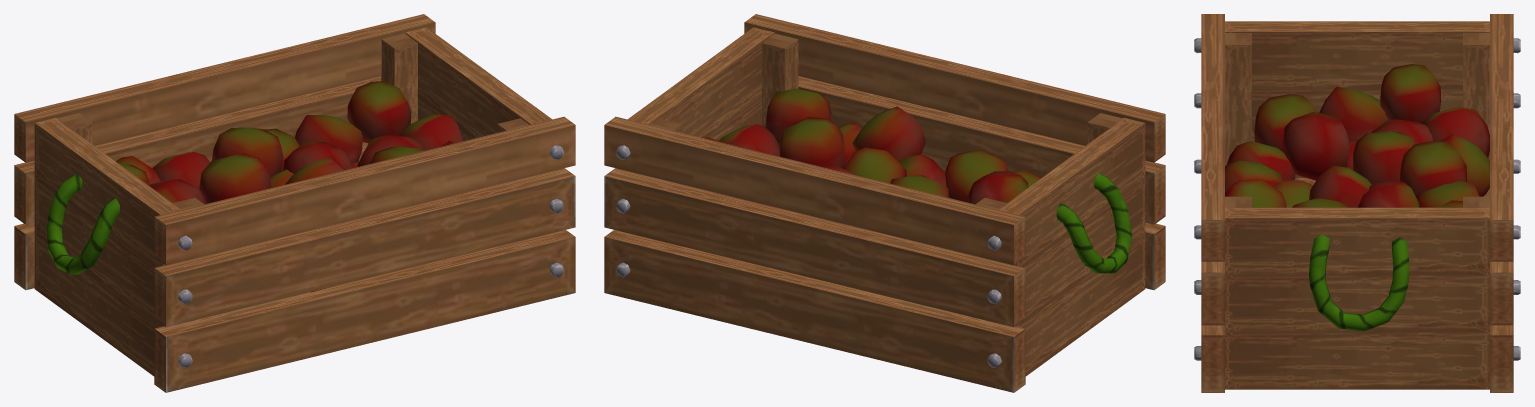
The model's file is farmcrate_apple.glb.
The picture shows the model from 3 angles, left to right: view 1: azimuth 30°, elevation 25°; view 2: azimuth 150°, elevation 25°; view 3: azimuth 270°, elevation 25°; orthographic projection. The views are drawn at different scales.
Visible parts, largest first — view 1: FarmCrate_Apple; view 2: FarmCrate_Apple; view 3: FarmCrate_Apple.
Boxes of the visible parts, bbox=[...] form: FarmCrate_Apple: bbox=[14, 14, 575, 392]; FarmCrate_Apple: bbox=[604, 14, 1165, 392]; FarmCrate_Apple: bbox=[1194, 14, 1520, 392].
Bounding box in the file's own units: 0.7138 × 0.2437 × 0.4142.
Materials: 3 (3 with a texture image).
